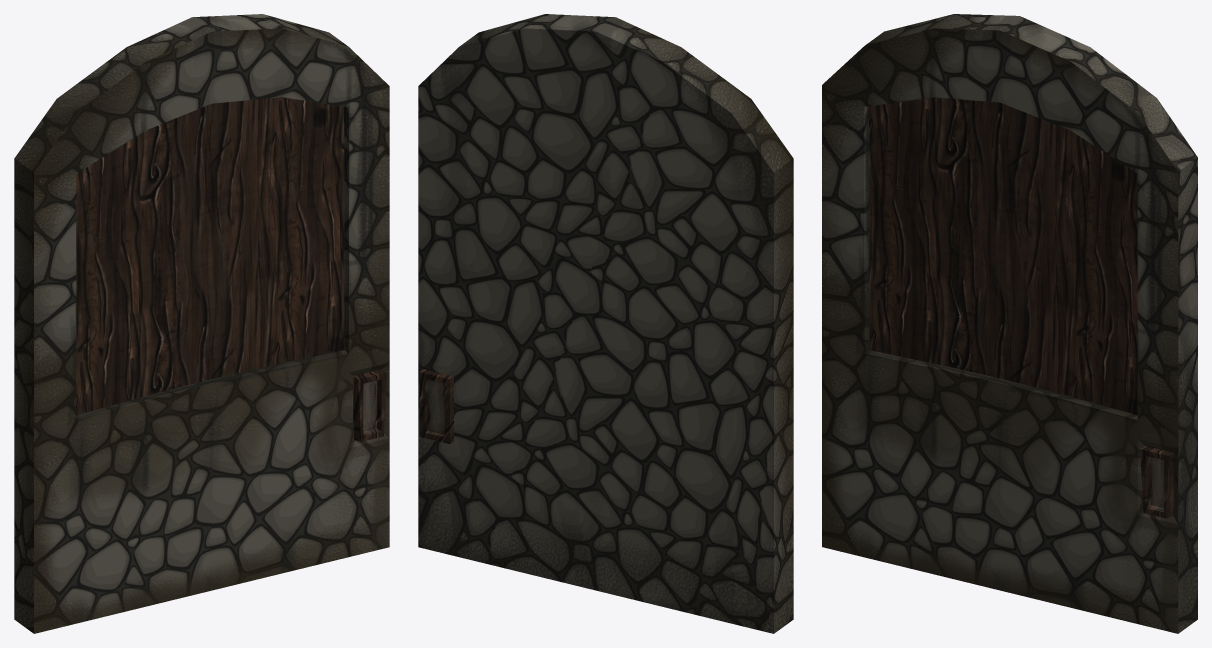
Rendered from single_door.FBX.
3 renders of one model, left to right at view 1: azimuth 30°, elevation 25°; view 2: azimuth 150°, elevation 25°; view 3: azimuth 330°, elevation 25°, orthographic.
Parts seen in each view (by area): view 1: door_2_2; view 2: door_2_2; view 3: door_2_2.
Part boxes in pixels (box(x1,y1,x2,y2)): door_2_2: box(14, 14, 389, 633); door_2_2: box(418, 14, 793, 633); door_2_2: box(822, 14, 1197, 633).
Size of the model in its own units: 2.09 by 3.14 by 0.2729.
